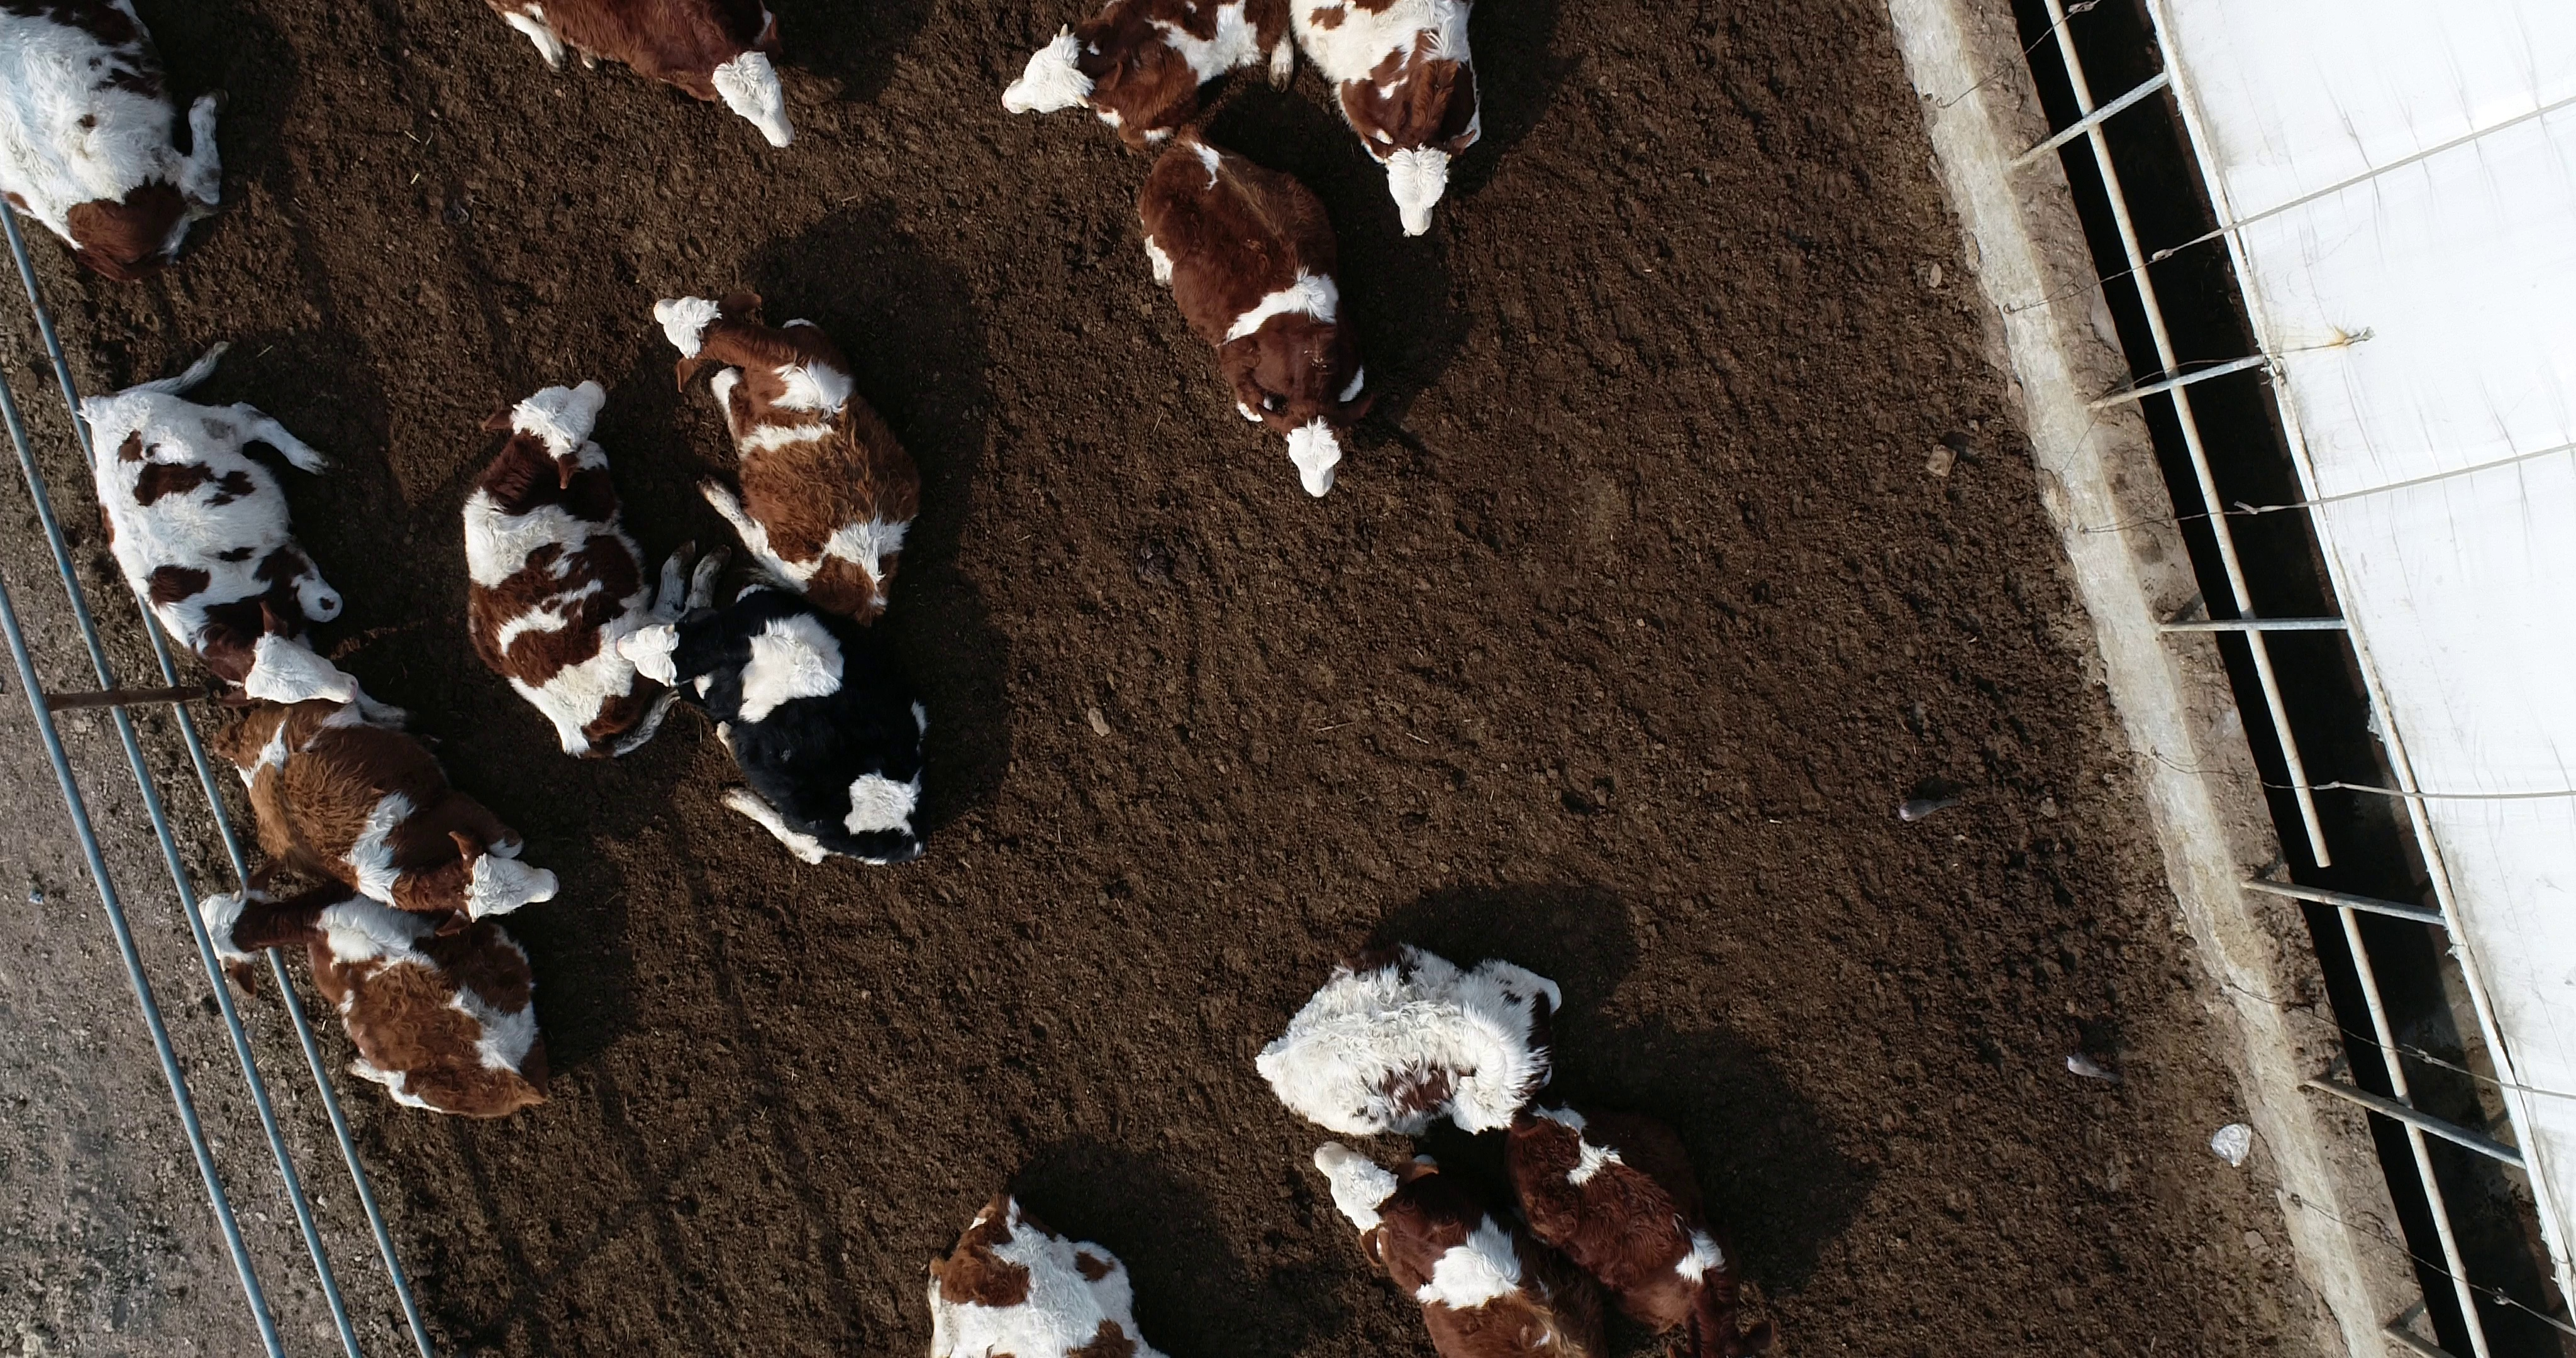cattle: (66, 336, 371, 709), (443, 375, 717, 770), (1133, 118, 1385, 513), (615, 574, 944, 871), (646, 291, 927, 627), (1249, 935, 1591, 1148)
